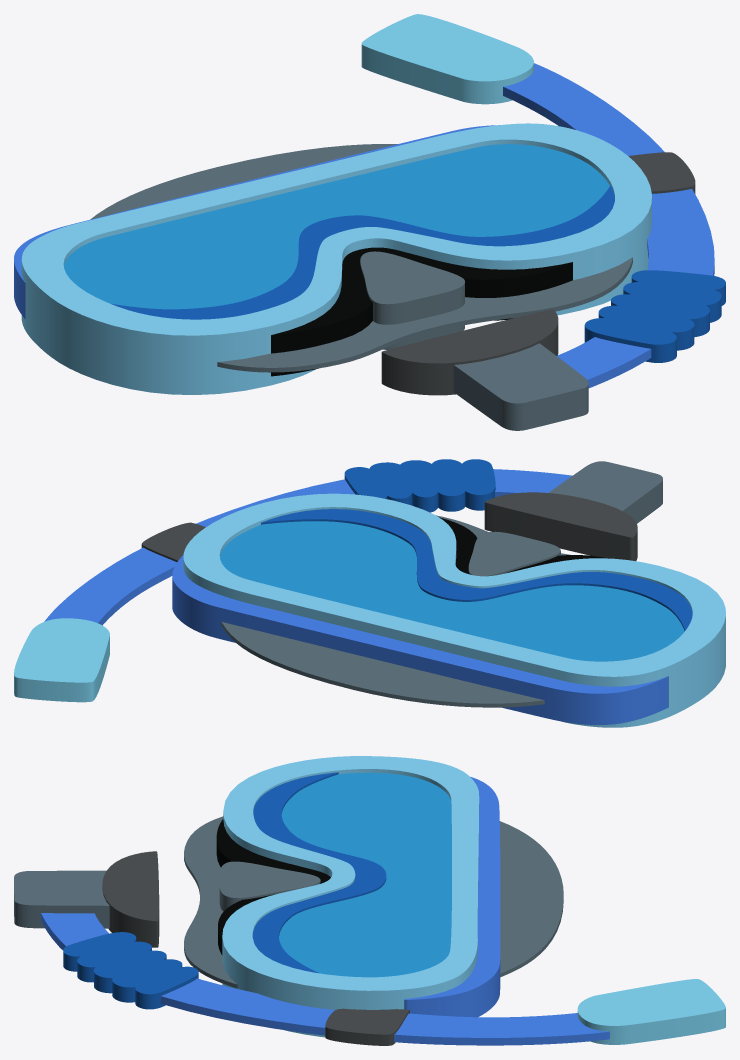
File: emoji_u1f93f.glb
The picture shows the model from 3 angles, top to bottom: view 1: azimuth 30°, elevation 25°; view 2: azimuth 150°, elevation 25°; view 3: azimuth 270°, elevation 25°; orthographic projection. The views are drawn at different scales.
Parts seen in each view (by area): view 1: emoji_u1f93f; view 2: emoji_u1f93f; view 3: emoji_u1f93f.
Boxes of the visible parts, x1,y1,x2,y2 form: emoji_u1f93f: (14, 14, 725, 430); emoji_u1f93f: (14, 459, 725, 727); emoji_u1f93f: (14, 756, 725, 1045).
Size of the model in its own units: 0.0294 by 0.0026 by 0.0339.
